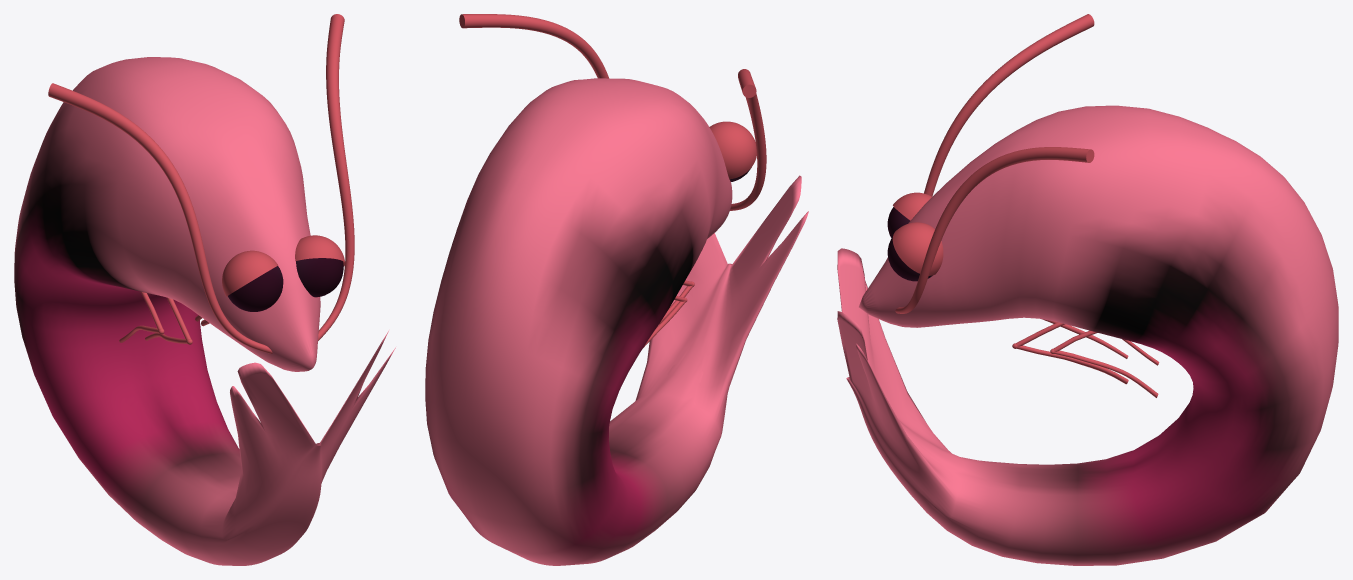
File: shrimpy_asset.fbx
3 views of the same model, side by side, from view 1: azimuth 30°, elevation 25°; view 2: azimuth 150°, elevation 25°; view 3: azimuth 270°, elevation 25° (orthographic). The views are drawn at different scales.
Parts seen in each view (by area): view 1: shrimp_body, shrimp_whiskers, shrimp_eyes, shrimp_eyelids, shrimp_feets; view 2: shrimp_body, shrimp_whiskers, shrimp_eyelids, shrimp_feets; view 3: shrimp_body, shrimp_whiskers, shrimp_eyelids, shrimp_feets, shrimp_eyes.
Part boxes in pixels (x1,y1,x2,y2): shrimp_body: (14,57,395,565); shrimp_whiskers: (48,14,354,353); shrimp_eyes: (227,258,343,311); shrimp_eyelids: (222,235,345,296); shrimp_feets: (119,291,209,344); shrimp_body: (425,78,808,565); shrimp_whiskers: (459,14,766,210); shrimp_eyelids: (709,121,756,179); shrimp_feets: (643,280,694,347); shrimp_body: (837,105,1338,565); shrimp_whiskers: (895,14,1094,313); shrimp_eyelids: (892,192,943,275); shrimp_feets: (1012,319,1159,397); shrimp_eyes: (887,207,932,281).
Size of the model in its own units: 2.72 by 4.3 by 4.1.
